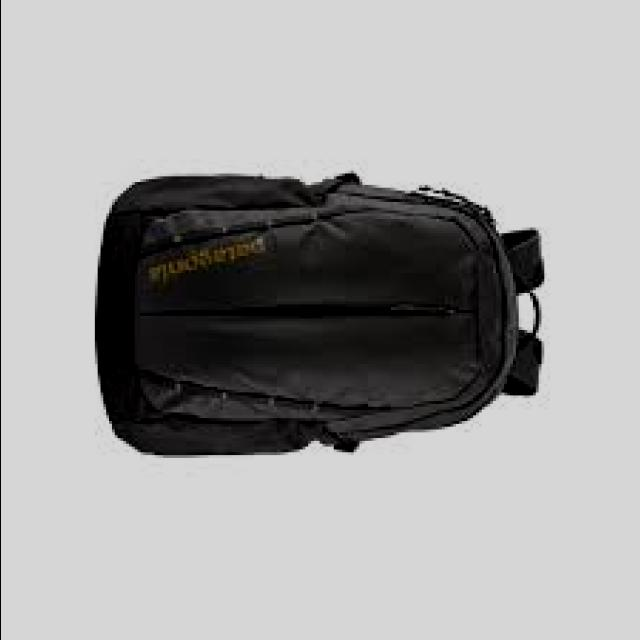backpack: (98, 172, 548, 460)
